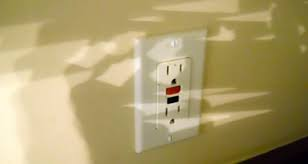outlet: (164, 63, 184, 85), (163, 104, 183, 126)
